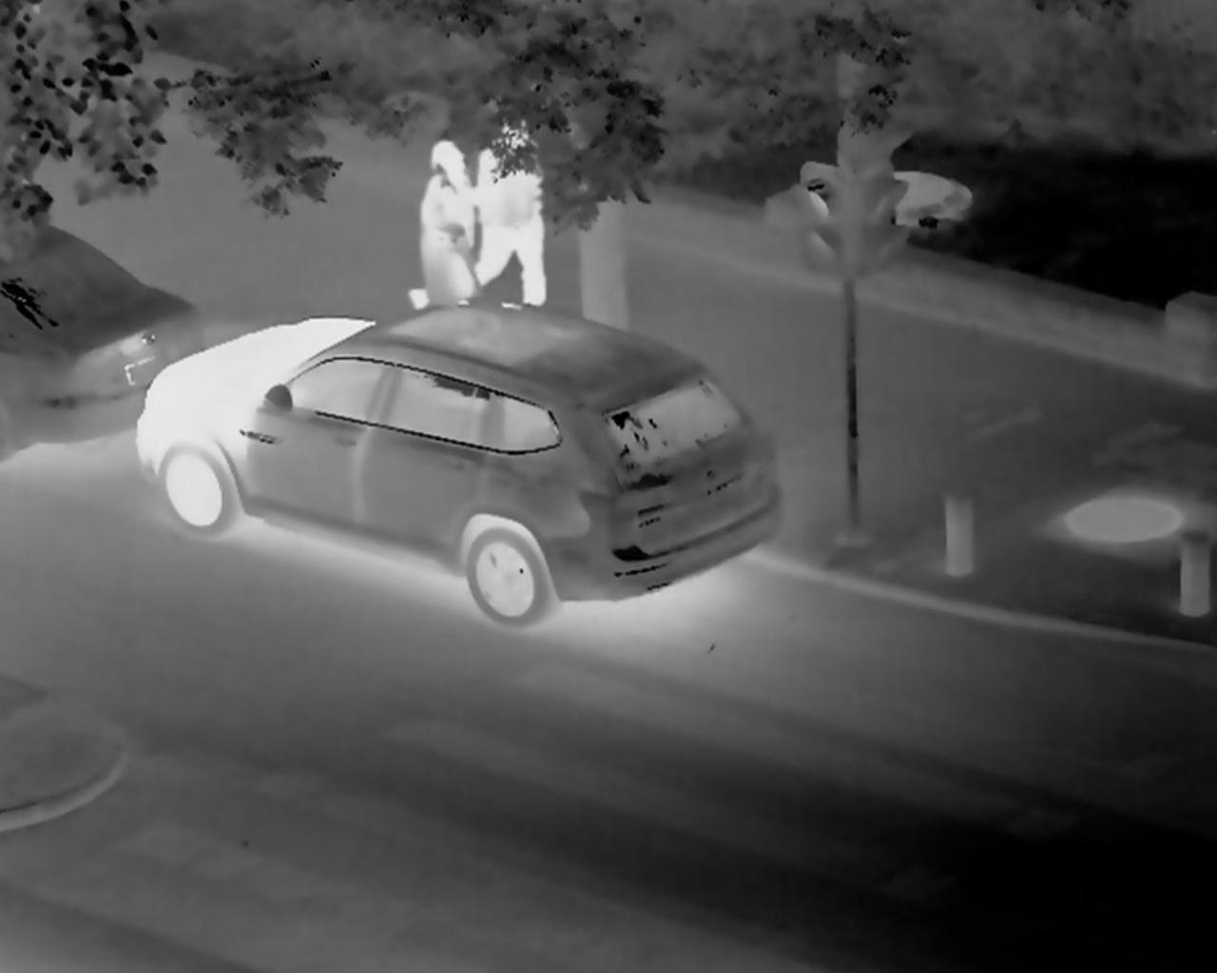person: (476, 114, 545, 322), (418, 143, 476, 308)
